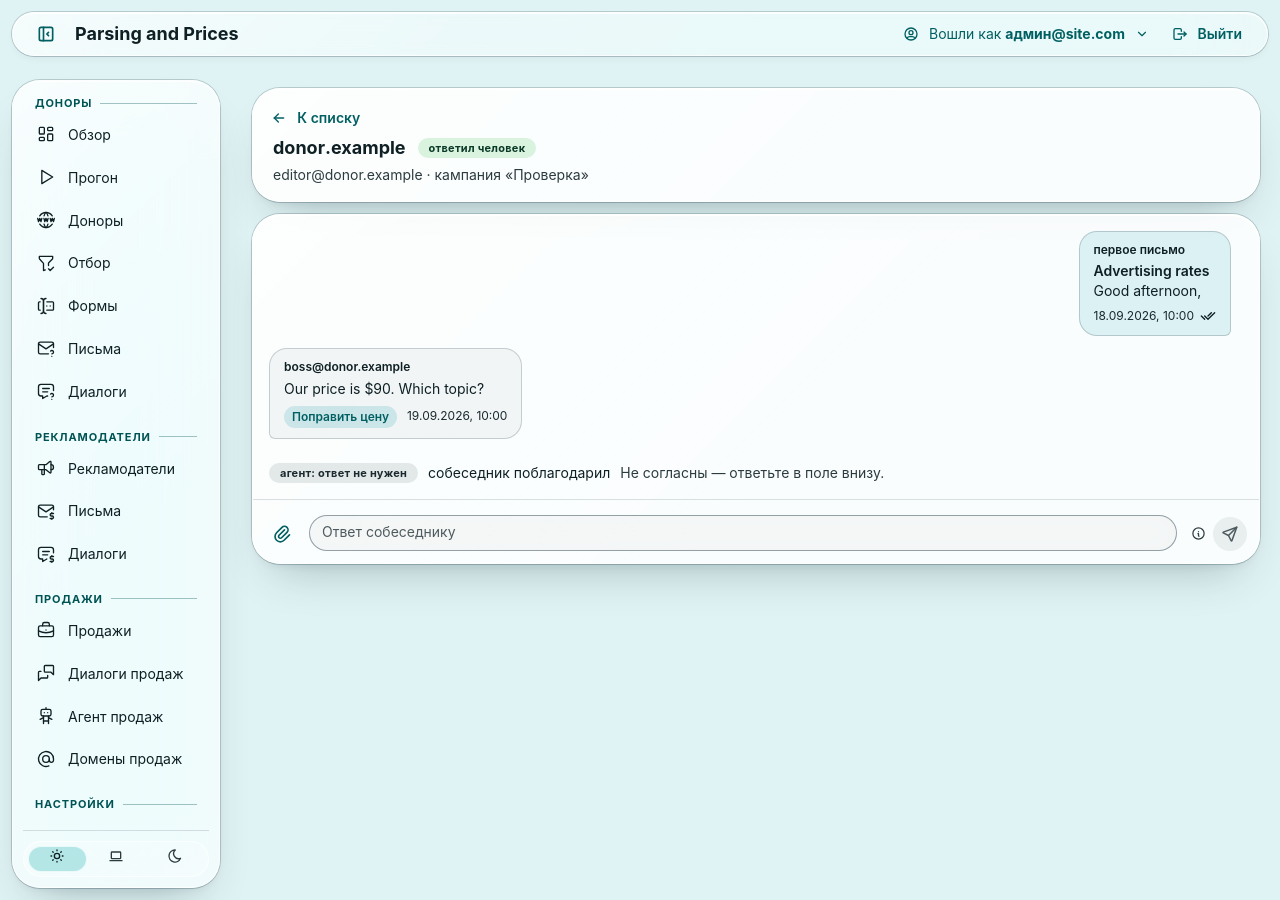
Test case: плашка черновика агента › A5: «ответ не нужен» виден и оспаривается ответом в поле внизу ленты — одном на экране
This screenshot has width=1280, height=900.
Expected: the heading "donor.example" is shown, [273, 135, 406, 161]
Expected: the text "агент: ответ не нужен" is shown, [280, 464, 407, 482]
Type "Glad to help!" into the text box named "Текст ответа".
click(743, 533); type("Glad to help!")  # box [309, 515, 1177, 551]
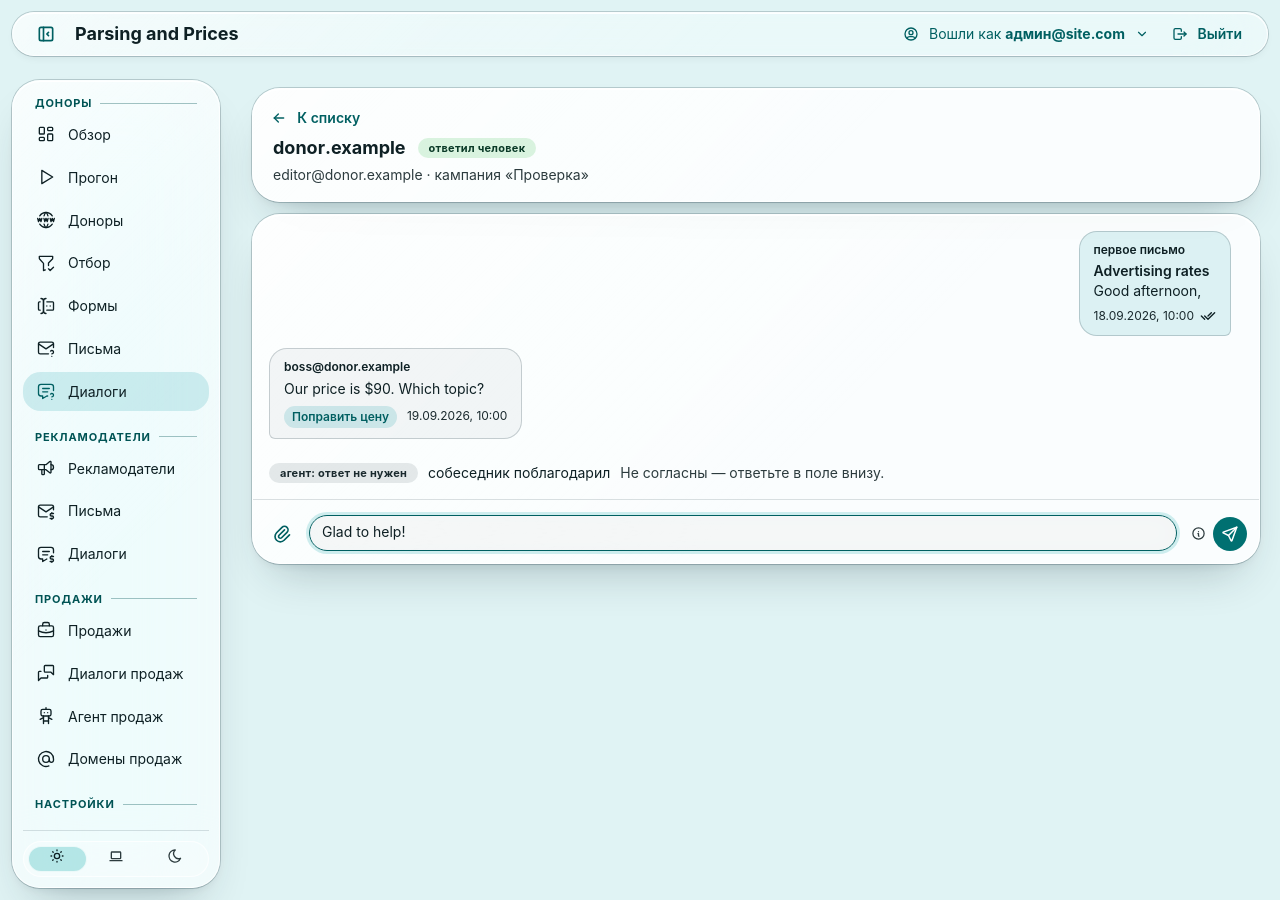
Click the button named "Отправить".
click(1230, 534)  # box [1213, 517, 1247, 551]
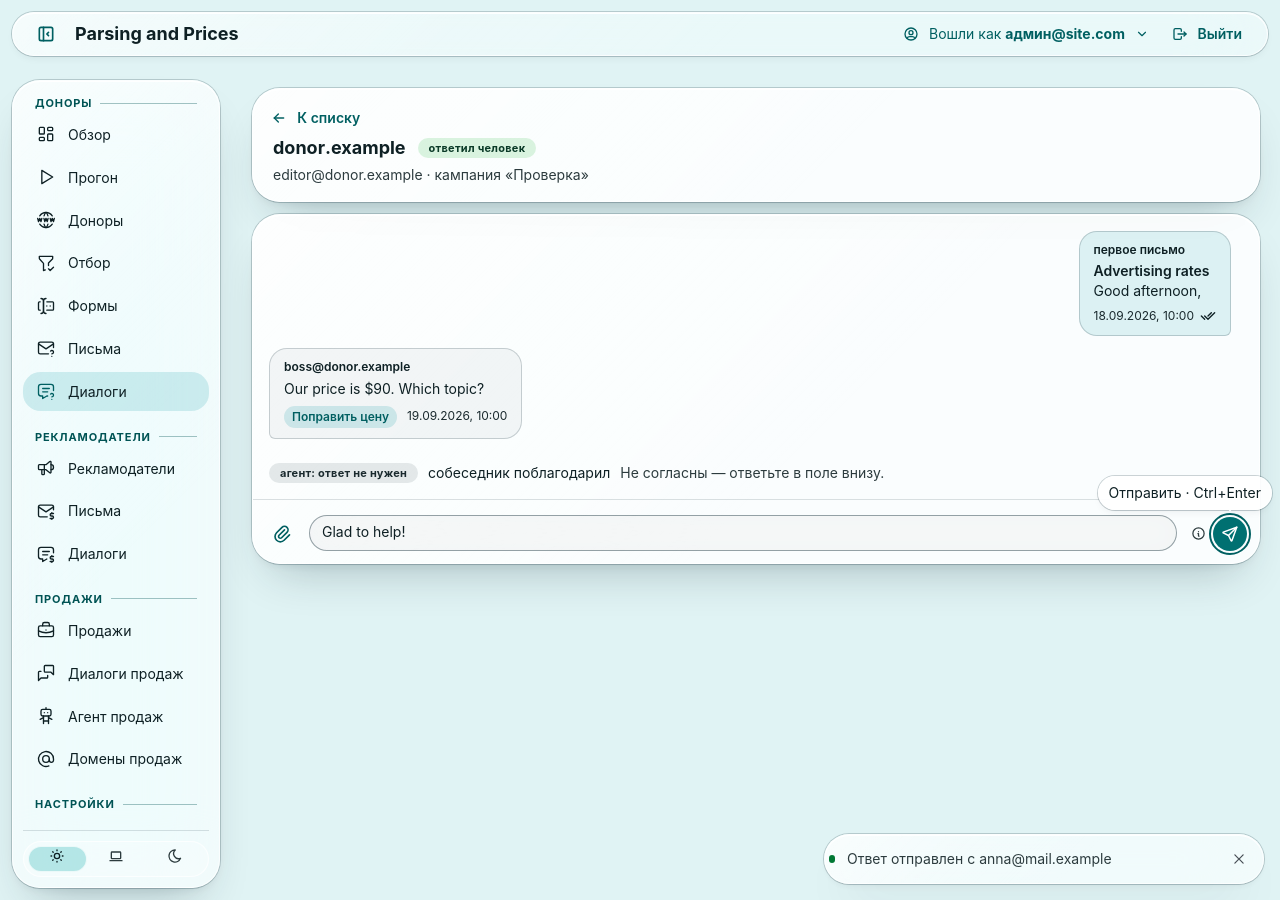
Now the text "Ответ отправлен с anna@mail.example" is shown, box [847, 850, 1112, 867]
